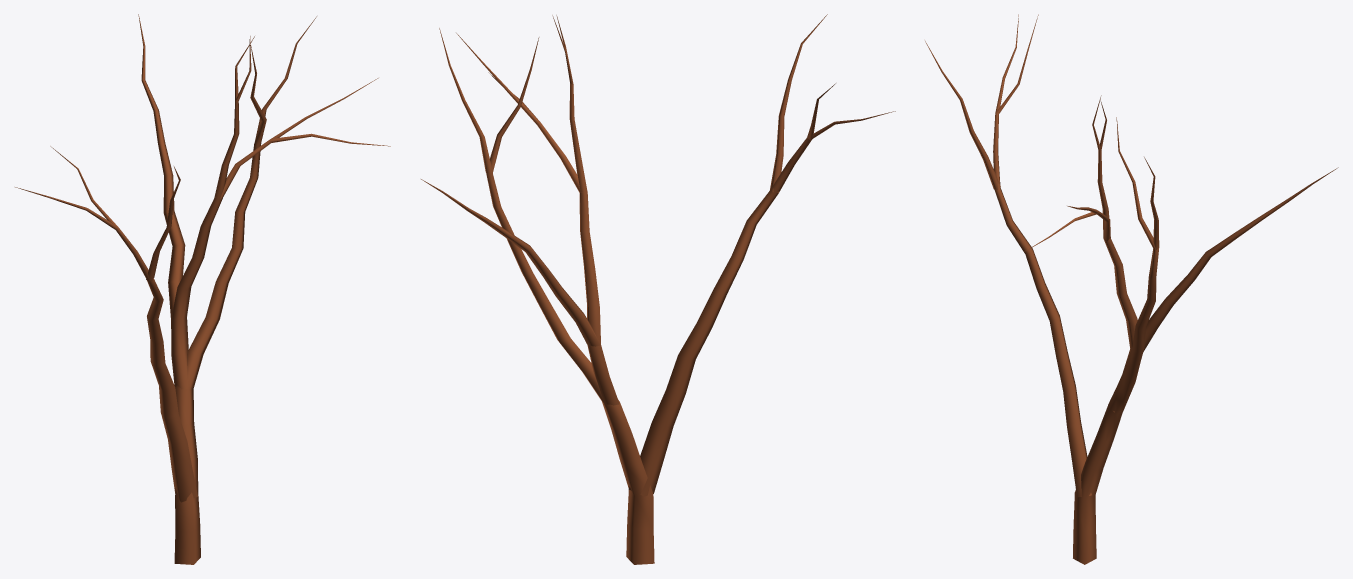
File: Tree.fbx
3 views of the same model, side by side, from view 1: azimuth 30°, elevation 25°; view 2: azimuth 150°, elevation 25°; view 3: azimuth 270°, elevation 25° (orthographic). The views are drawn at different scales.
Visible parts, largest first — view 1: tree; view 2: tree; view 3: tree.
Part boxes in pixels (box(x1,y1,x2,y2)): tree: box(15, 14, 390, 564); tree: box(421, 14, 895, 564); tree: box(925, 14, 1338, 564).
Bounding box in the file's own units: 1140 × 1402 × 1059.
